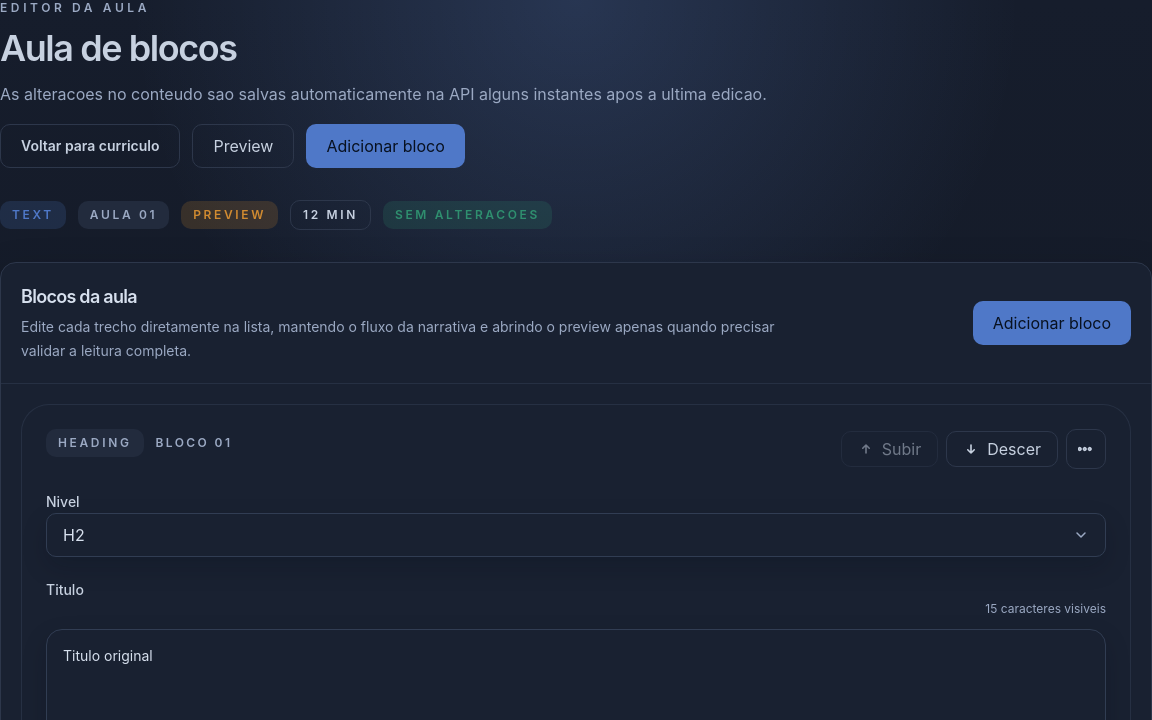
Test: LessonContentEditorScreen › opens and closes the preview aside from the header button
The image size is (1152, 720).
Expected: the heading "Aula de blocos" is shown, [0,26,236,70]
Click the button "Preview". click: (244, 146)
box: [192,124,294,168]
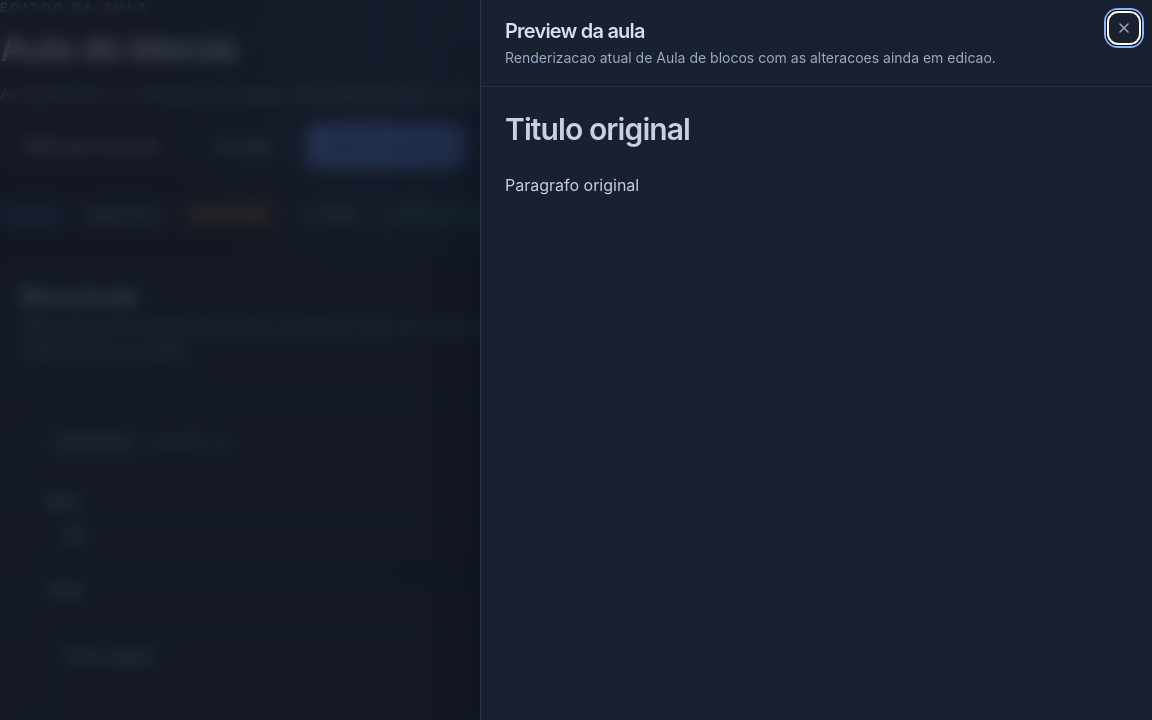
Expected: the dialog is shown, [480,0,1151,719]
Expected: the heading "Preview da aula" is shown, [505,19,645,43]
Click the button named "Close". click: (1124, 28)
box: [1108,12,1140,44]
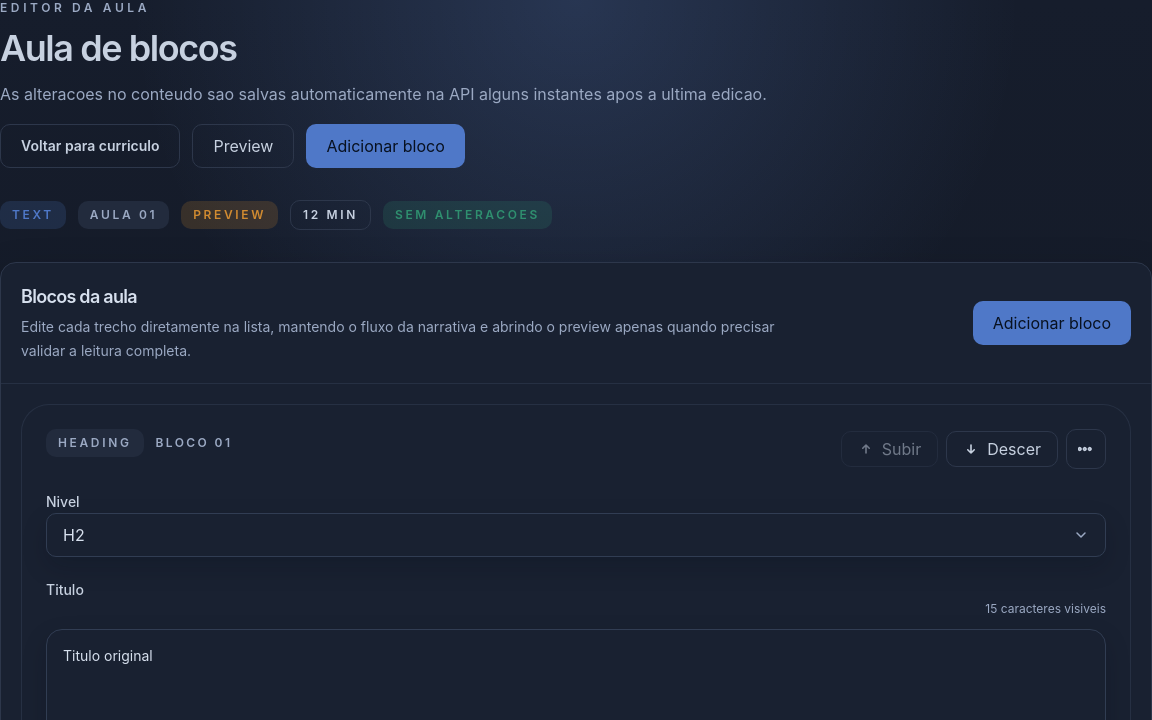
Expected: the dialog is gone
